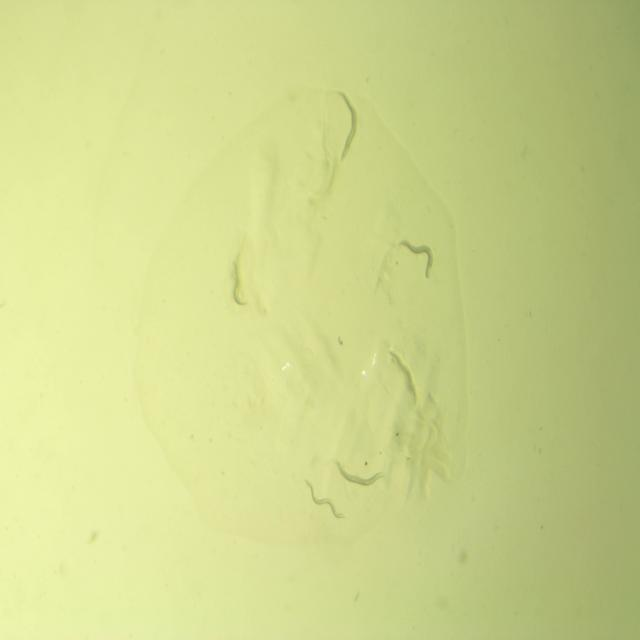worm: (332, 86, 362, 160), (302, 478, 346, 525), (386, 347, 420, 407), (334, 457, 387, 493), (398, 238, 436, 283), (229, 246, 249, 314)
